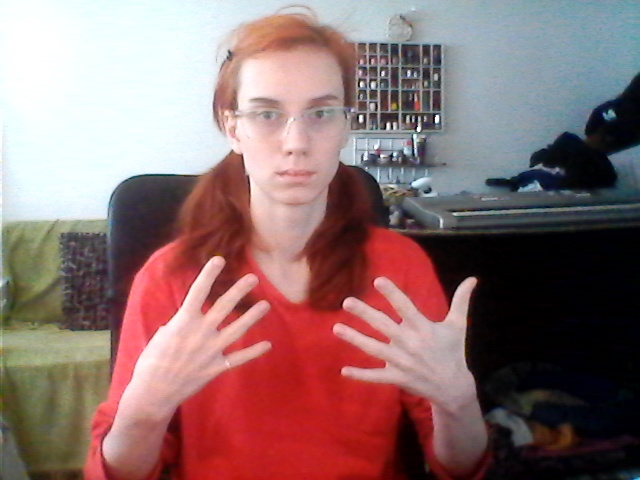devat: (133, 253, 484, 412)
